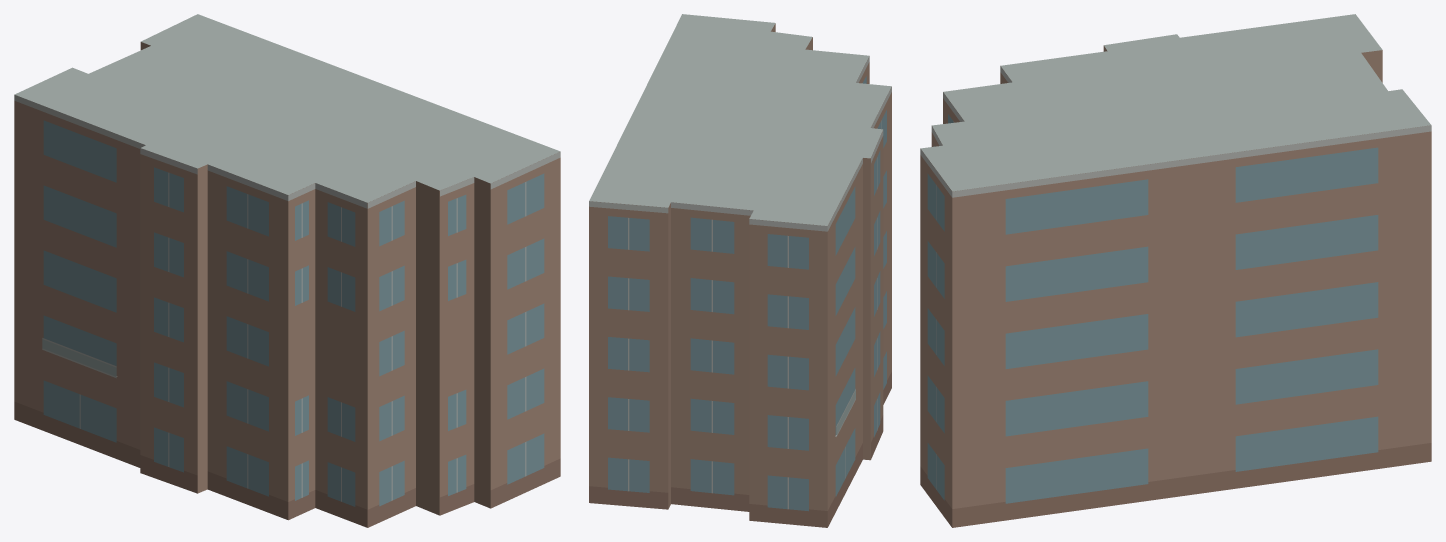
File: survey-upis-32592924.glb
The picture shows the model from 3 angles, left to right: view 1: azimuth 30°, elevation 25°; view 2: azimuth 150°, elevation 25°; view 3: azimuth 270°, elevation 25°; orthographic projection. The views are drawn at different scales.
Parts seen in each view (by area): view 1: survey-upis-32592924.tmp; view 2: survey-upis-32592924.tmp; view 3: survey-upis-32592924.tmp.
Part boxes in pixels (x1,y1,x2,y2): survey-upis-32592924.tmp: [14, 14, 560, 527]; survey-upis-32592924.tmp: [589, 14, 891, 527]; survey-upis-32592924.tmp: [920, 14, 1431, 527].
Size of the model in its own units: 14.83 by 13.1 by 18.05.
